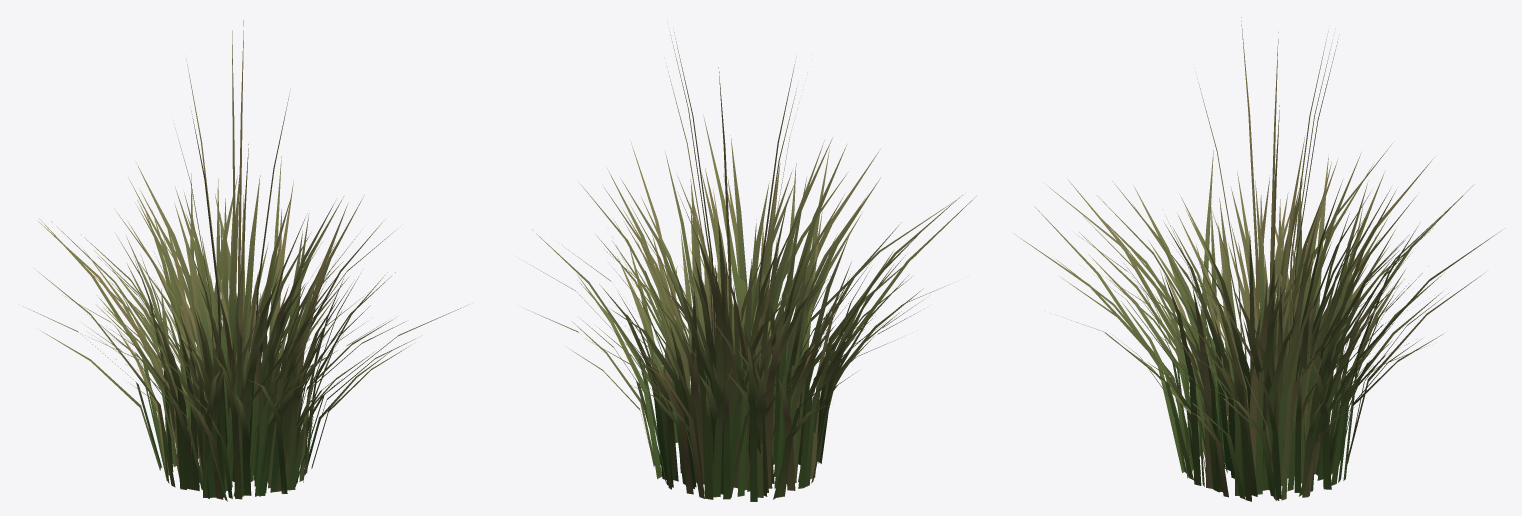
Rendered from grass_tussock_a.glb.
The picture shows the model from 3 angles, left to right: view 1: azimuth 30°, elevation 25°; view 2: azimuth 150°, elevation 25°; view 3: azimuth 270°, elevation 25°; orthographic projection. The views are drawn at different scales.
Visible parts, largest first — view 1: grass_tussock_a; view 2: grass_tussock_a; view 3: grass_tussock_a.
Boxes of the visible parts, x1,y1,x2,y2 form: grass_tussock_a: (23,20,467,501); grass_tussock_a: (522,32,976,501); grass_tussock_a: (1015,17,1501,501).
Bounding box in the file's own units: 1.03 × 1.21 × 1.18.
1 material, 1 textured.
